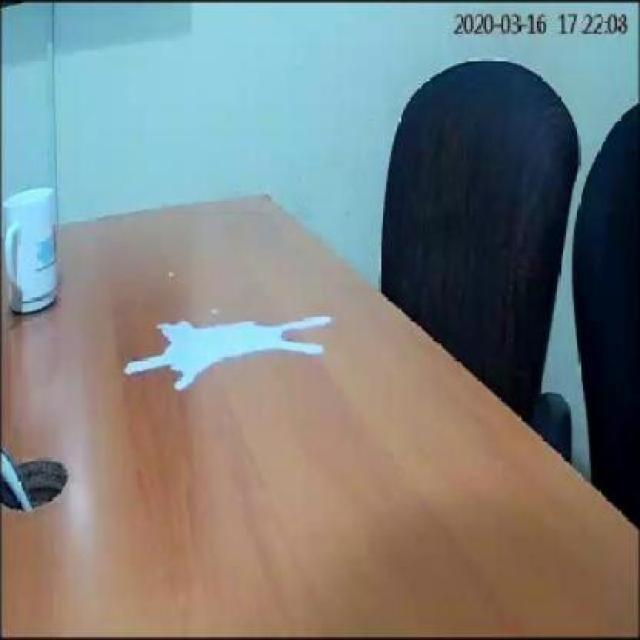spillage: (123, 315, 334, 392)
